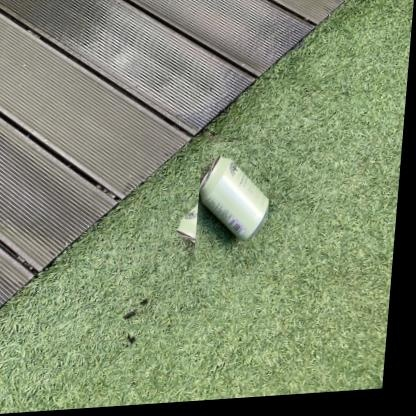trash: (200, 157, 268, 239)
